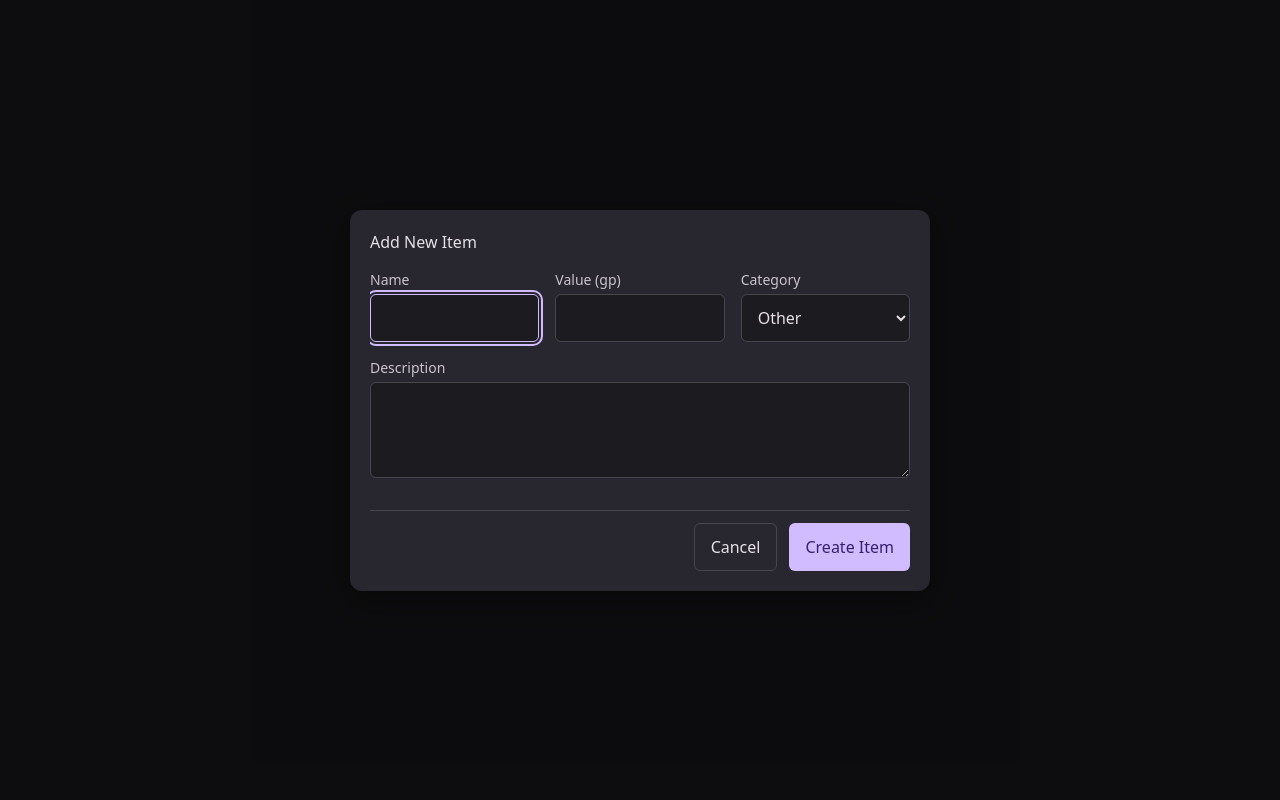
Scenario: ItemEditor › Dialog contract › reports save status via an accessible status region
In the field labelled "Name": (455, 318) x1=370 y1=294 x2=539 y2=342, type "Rope"
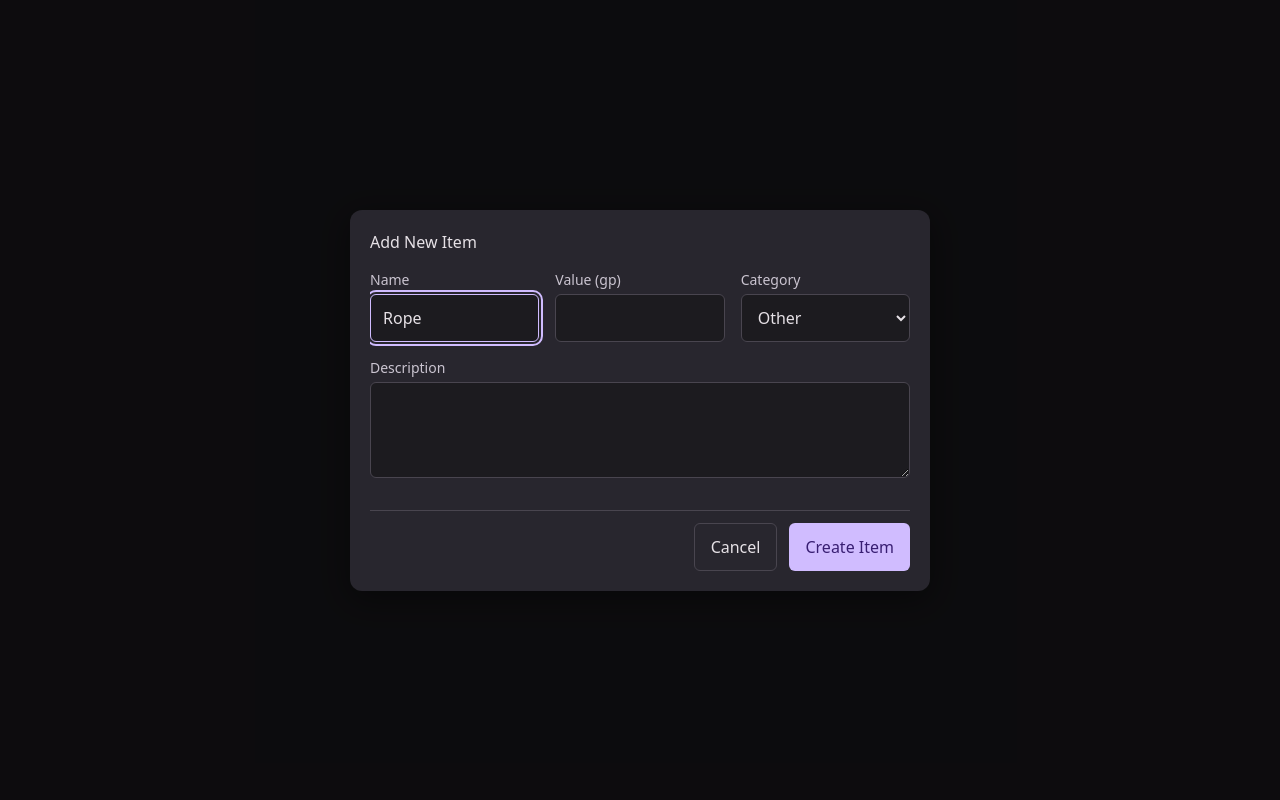
In the number field labelled "Value (gp)": (640, 318) x1=555 y1=294 x2=725 y2=342, type "1"
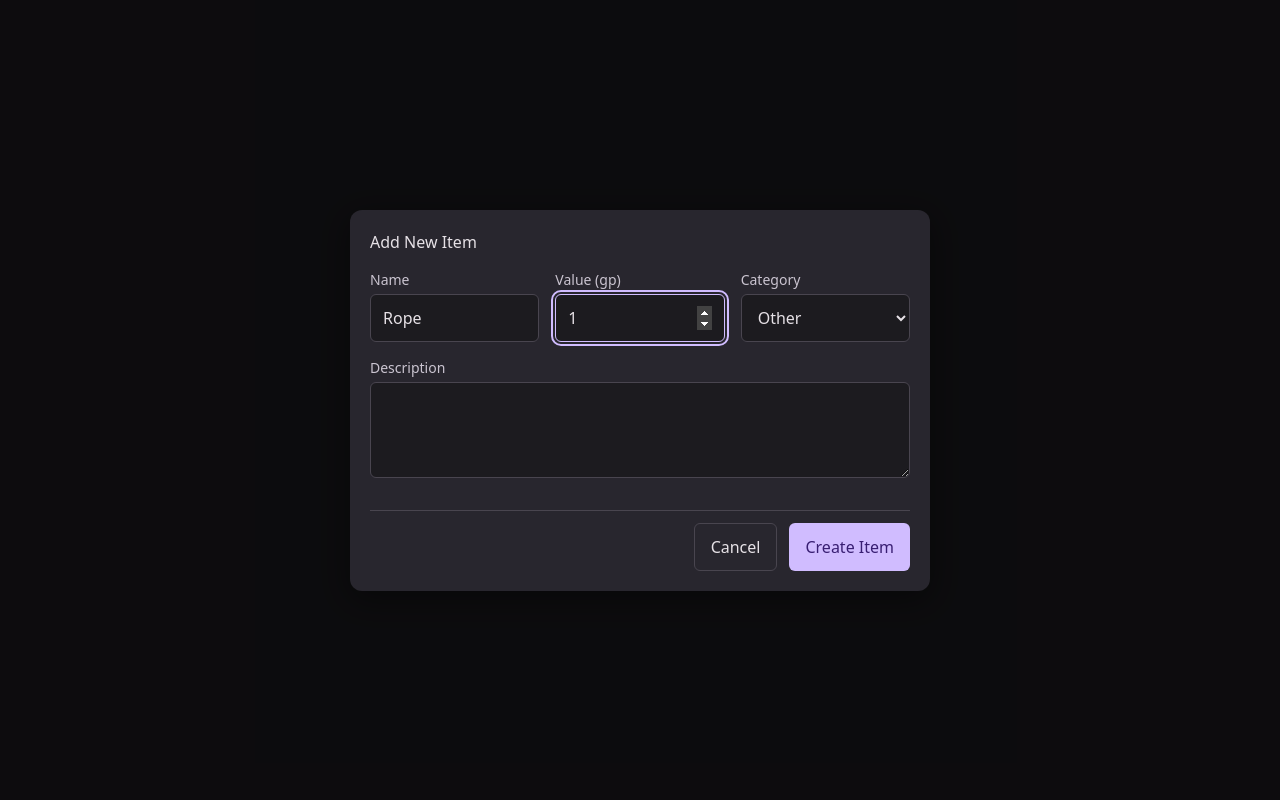
Click the button "Create Item": (850, 546) x1=790 y1=522 x2=910 y2=570
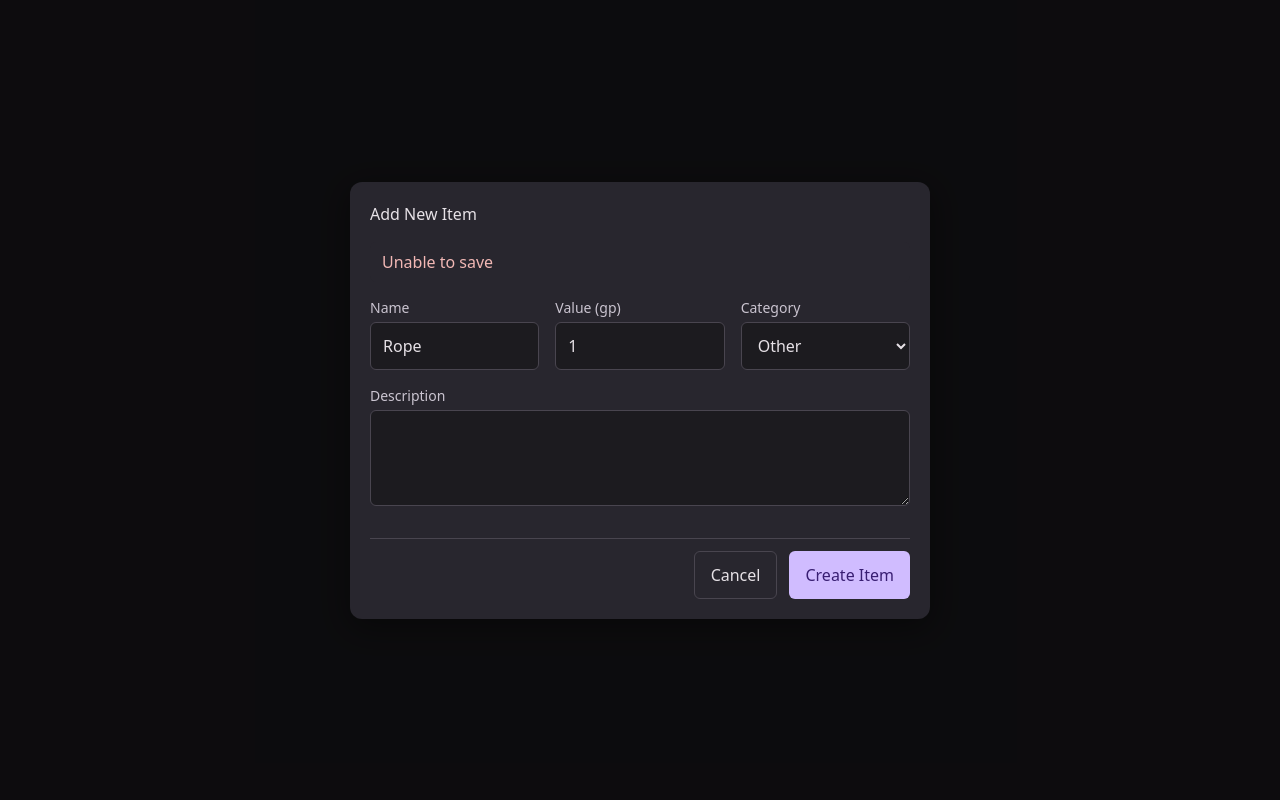
Check: the message reads "Unable to save", box x1=382 y1=250 x2=493 y2=272
